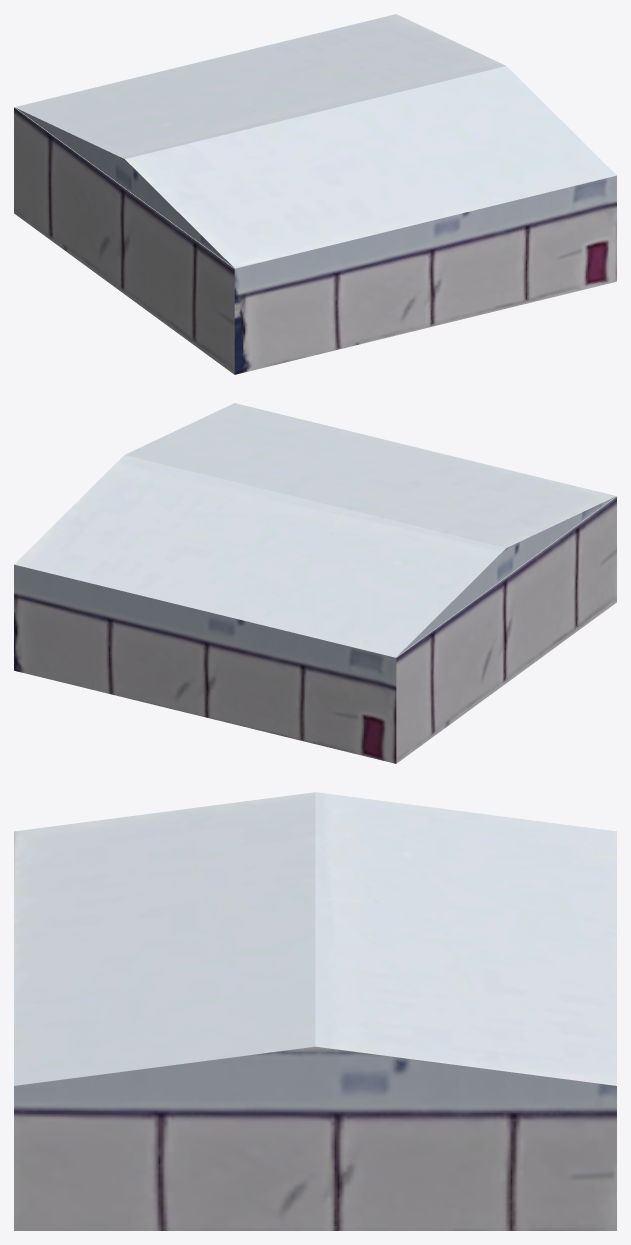
File: Lecu_eurocopanexo1.gltf
3 renders of one model, top to bottom at view 1: azimuth 30°, elevation 25°; view 2: azimuth 150°, elevation 25°; view 3: azimuth 270°, elevation 25°, orthographic. The views are drawn at different scales.
Parts seen in each view (by area): view 1: eurocopter_small1; view 2: eurocopter_small1; view 3: eurocopter_small1.
Boxes of the visible parts, <box> form: eurocopter_small1: <box>14,14,616,374</box>; eurocopter_small1: <box>14,403,616,763</box>; eurocopter_small1: <box>14,792,616,1230</box>.
Bounding box in the file's own units: 16.67 × 5.62 × 16.67.
